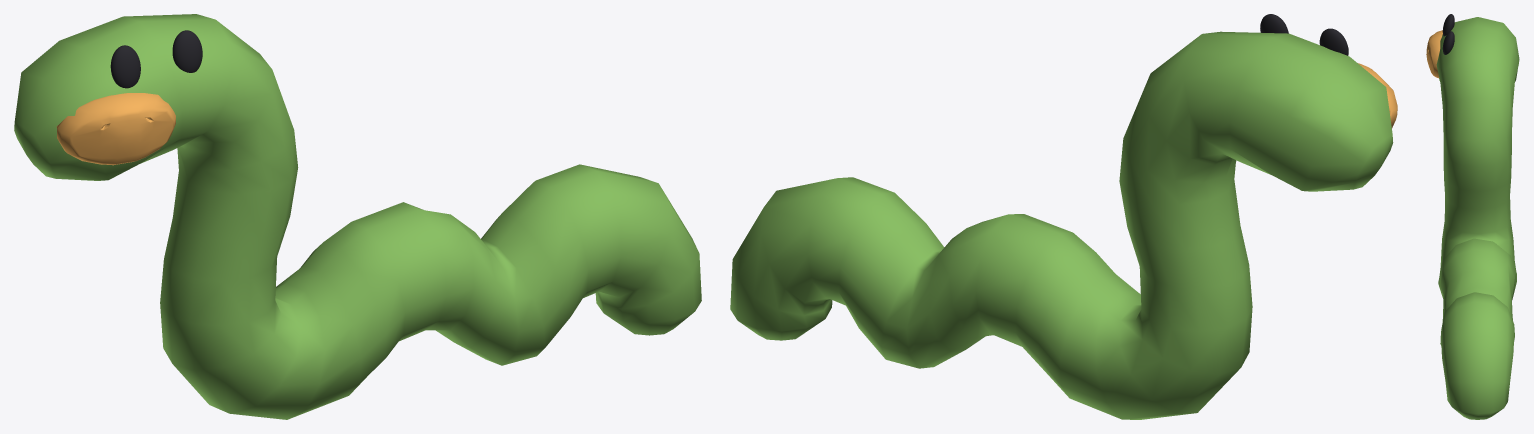
The model's file is stella.glb.
3 views of the same model, side by side, from view 1: azimuth 30°, elevation 25°; view 2: azimuth 150°, elevation 25°; view 3: azimuth 270°, elevation 25° (orthographic). The views are drawn at different scales.
Visible parts, largest first — view 1: pCube12; view 2: pCube12; view 3: pCube12.
Boxes of the visible parts, x1,y1,x2,y2 form: pCube12: [14, 14, 701, 419]; pCube12: [730, 14, 1397, 419]; pCube12: [1426, 14, 1519, 419].
Bounding box in the file's own units: 0.0556 × 0.0339 × 0.0116.
